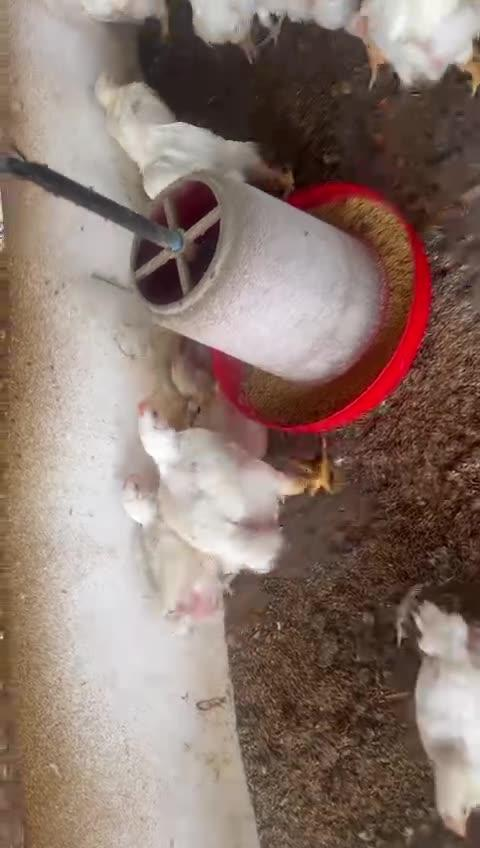AbNormal: (170, 344, 217, 437), (93, 69, 177, 120)
Normal: (134, 399, 330, 572), (124, 472, 235, 617), (415, 604, 480, 846), (112, 117, 283, 189), (339, 4, 480, 87), (190, 2, 286, 56), (75, 0, 172, 28)
